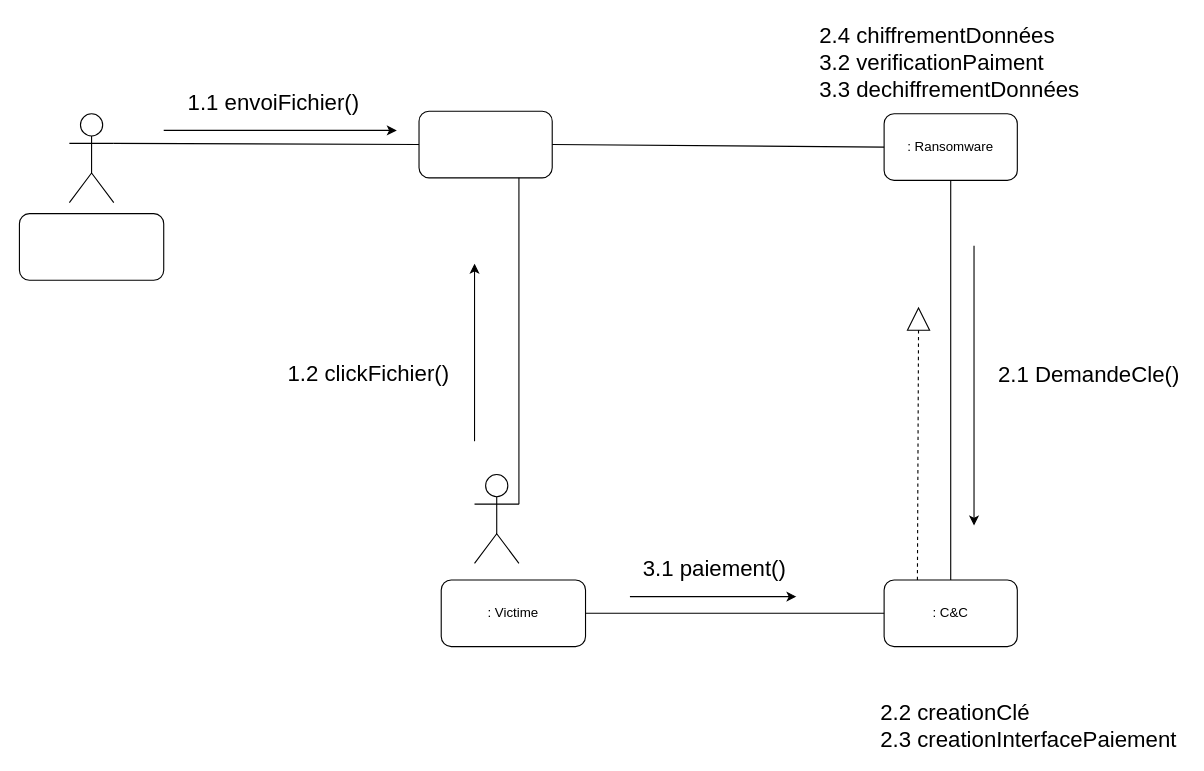
Image size: 1204x771. Some labels were removed from this diagram. The centre of each missing label's shape, as x and y in pixels:
": Fichier" belongs at point (485, 144).
": Pirate" belongs at point (91, 246).
